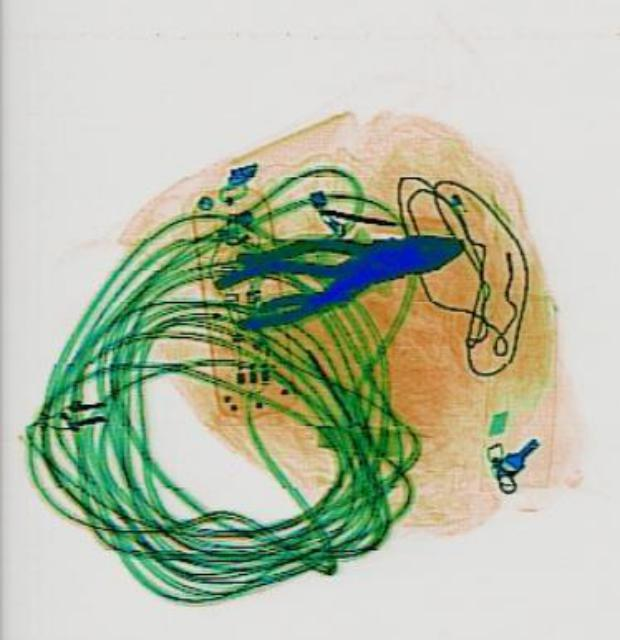Pliers: (231, 210, 467, 312), (208, 229, 386, 337)
